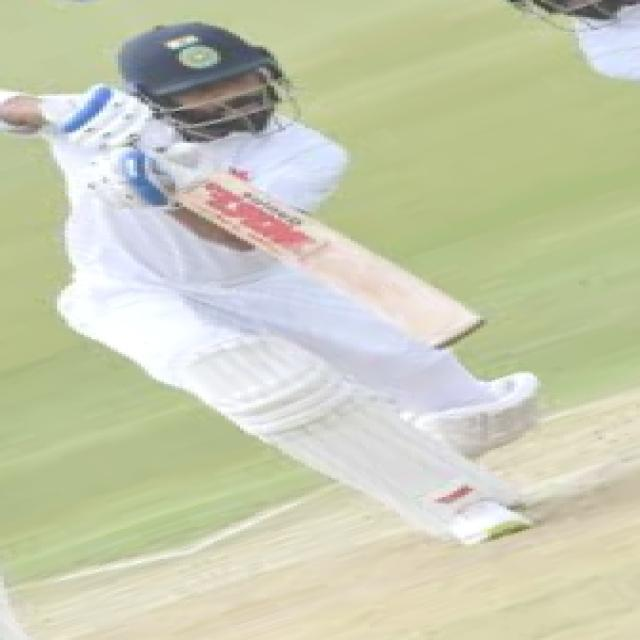toe: (398, 301, 490, 351)
